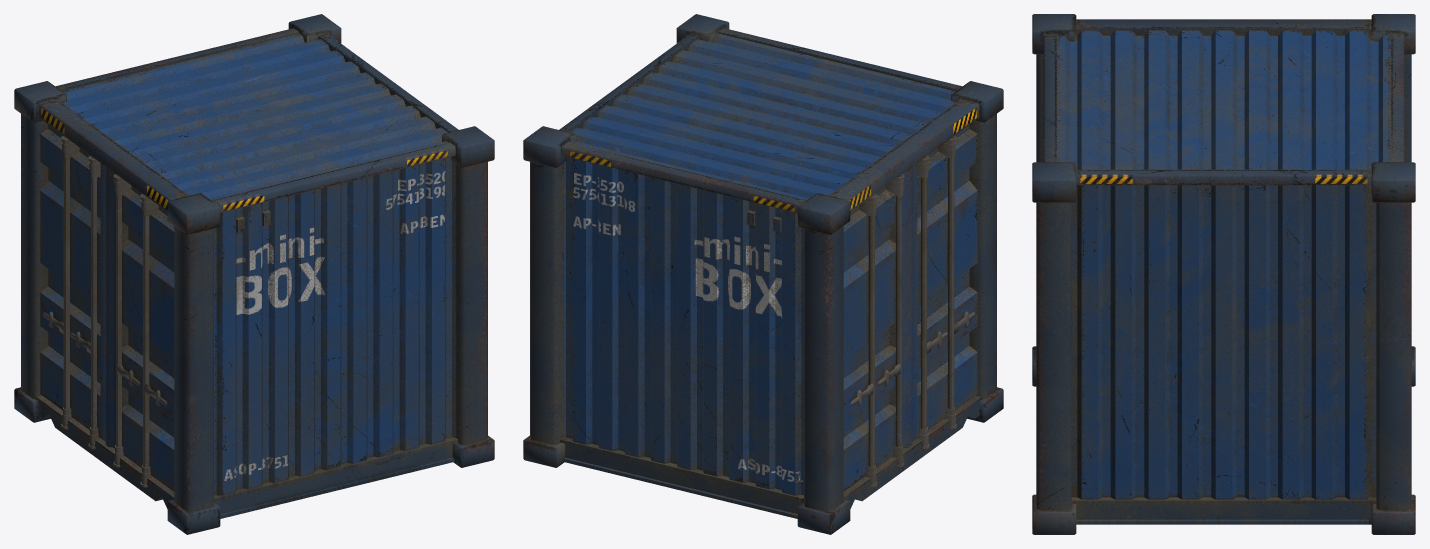
The model's file is Container1.glb.
The picture shows the model from 3 angles, left to right: view 1: azimuth 30°, elevation 25°; view 2: azimuth 150°, elevation 25°; view 3: azimuth 270°, elevation 25°; orthographic projection. The views are drawn at different scales.
Visible parts, largest first — view 1: Object_2; view 2: Object_2; view 3: Object_2.
Part boxes in pixels (<box>): Object_2: <box>14,14,494,534</box>; Object_2: <box>523,14,1003,534</box>; Object_2: <box>1032,14,1415,534</box>.
Bounding box in the file's own units: 225 × 223 × 218.
Materials: 1 (1 with a texture image).
